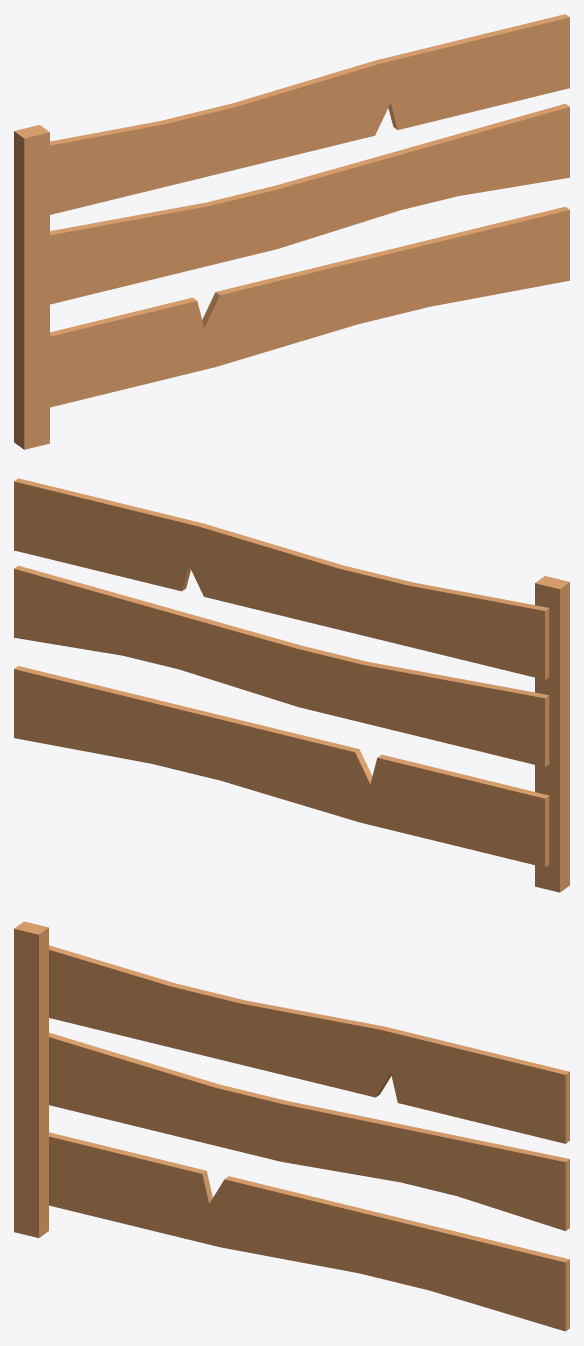
Rendered from fench01.fbx.
The picture shows the model from 3 angles, top to bottom: view 1: azimuth 30°, elevation 25°; view 2: azimuth 150°, elevation 25°; view 3: azimuth 330°, elevation 25°; orthographic projection. The views are drawn at different scales.
Visible parts, largest first — view 1: fench01; view 2: fench01; view 3: fench01.
Part boxes in pixels (left/top/right/bottom): fench01: left=14, top=14, right=569, bottom=449; fench01: left=14, top=478, right=569, bottom=892; fench01: left=14, top=921, right=569, bottom=1331.
Bounding box in the file's own units: 6.55 × 3.51 × 0.2982.
